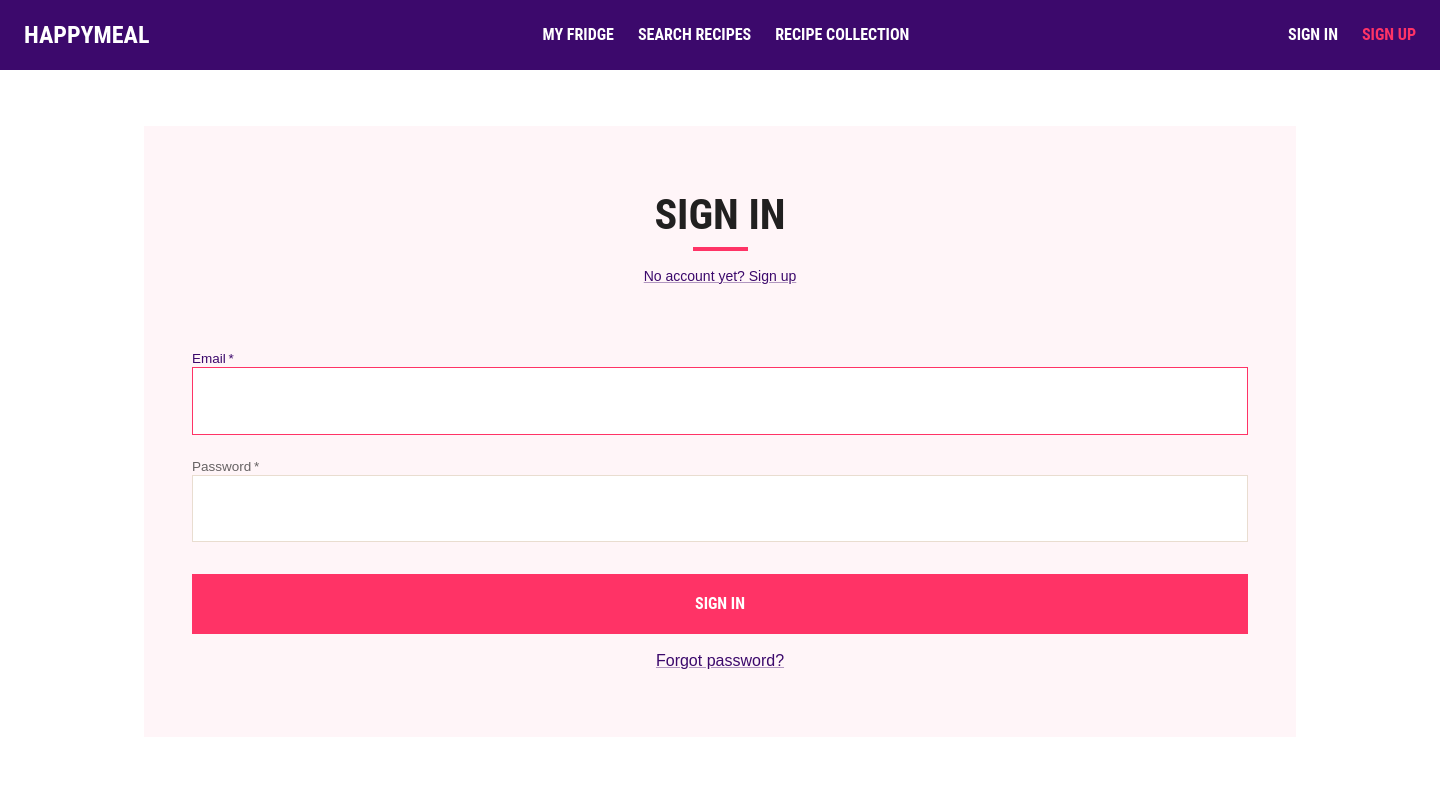
Both unfilled input field validation is showing two Required error messages.
Step 1. Click the button "Sign in" → (720, 604), box [192, 574, 1248, 634]
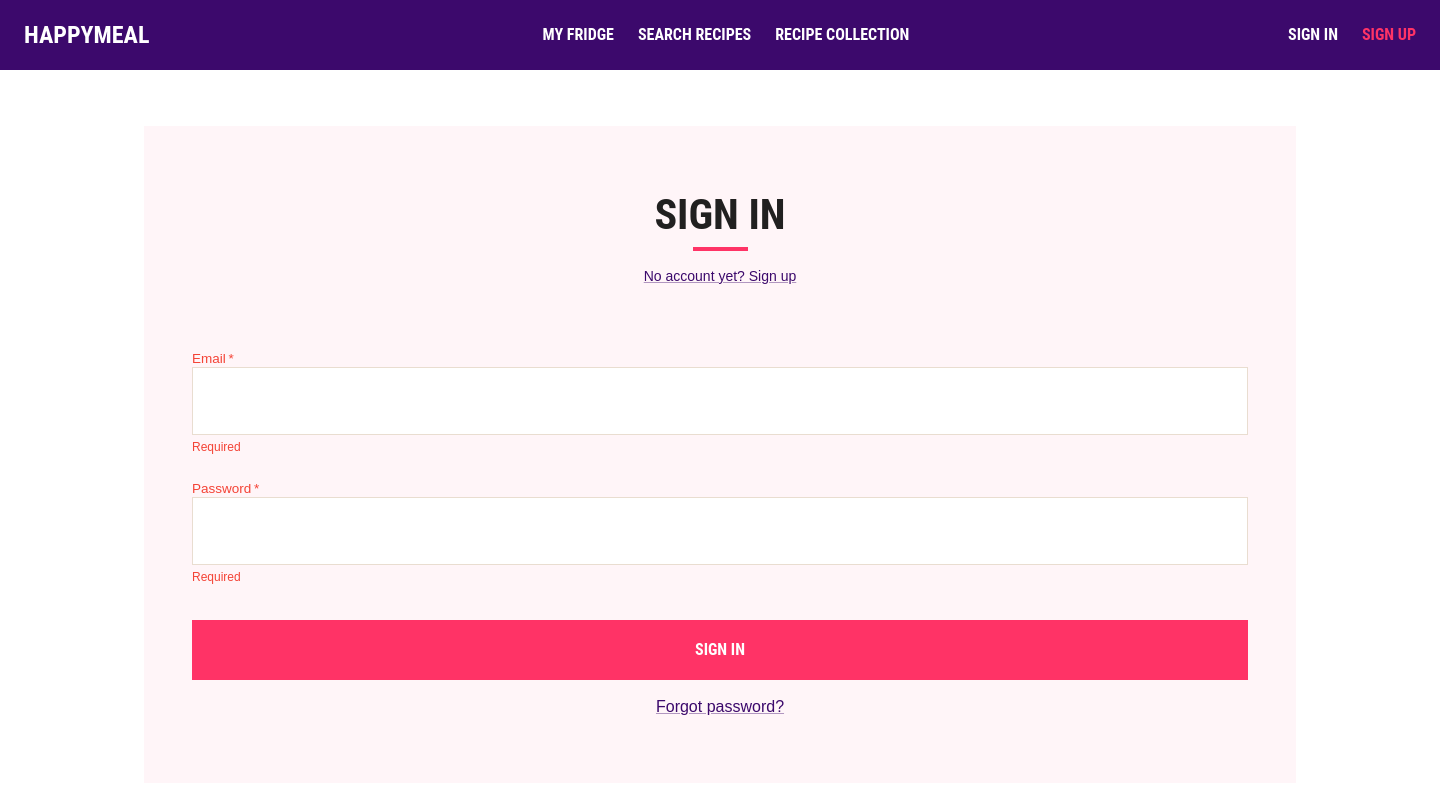
Expected: the text "Required" is shown 2 times, [192, 440, 241, 454]; [192, 570, 241, 584]
